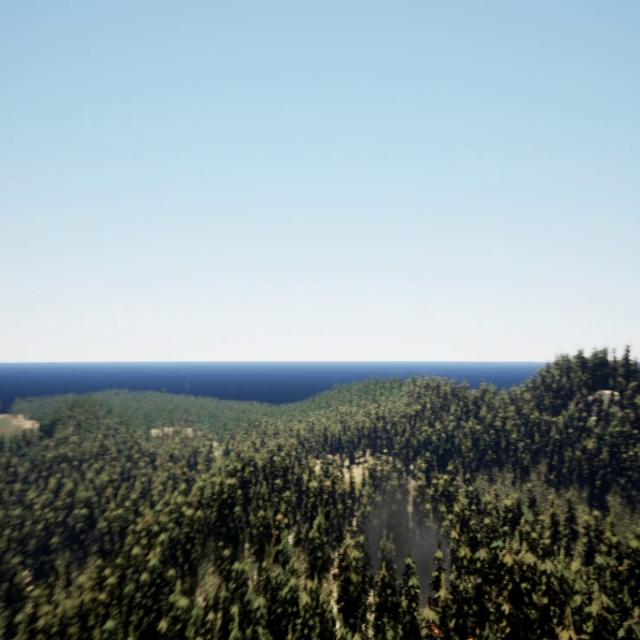smoke: (359, 491, 443, 588)
